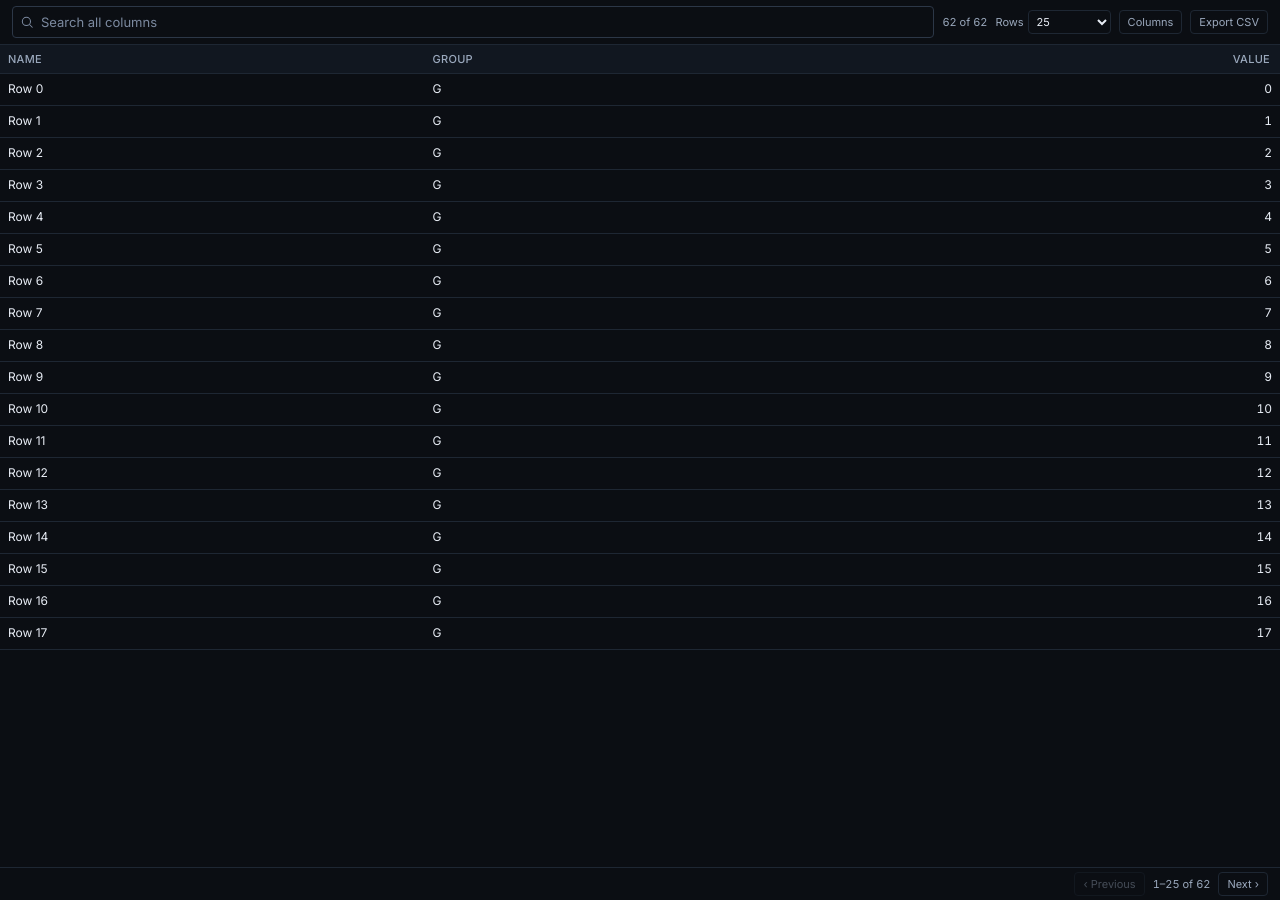
Test: DataTable component › pages through rows
The width and height of the screenshot is (1280, 900).
Expected: the navigation bar named "Pages" shows "1–25 of 62", x1=0 y1=867 x2=1279 y2=899
Click the button "Next ›" at x=1243, y=884, box x1=1218 y1=872 x2=1268 y2=896
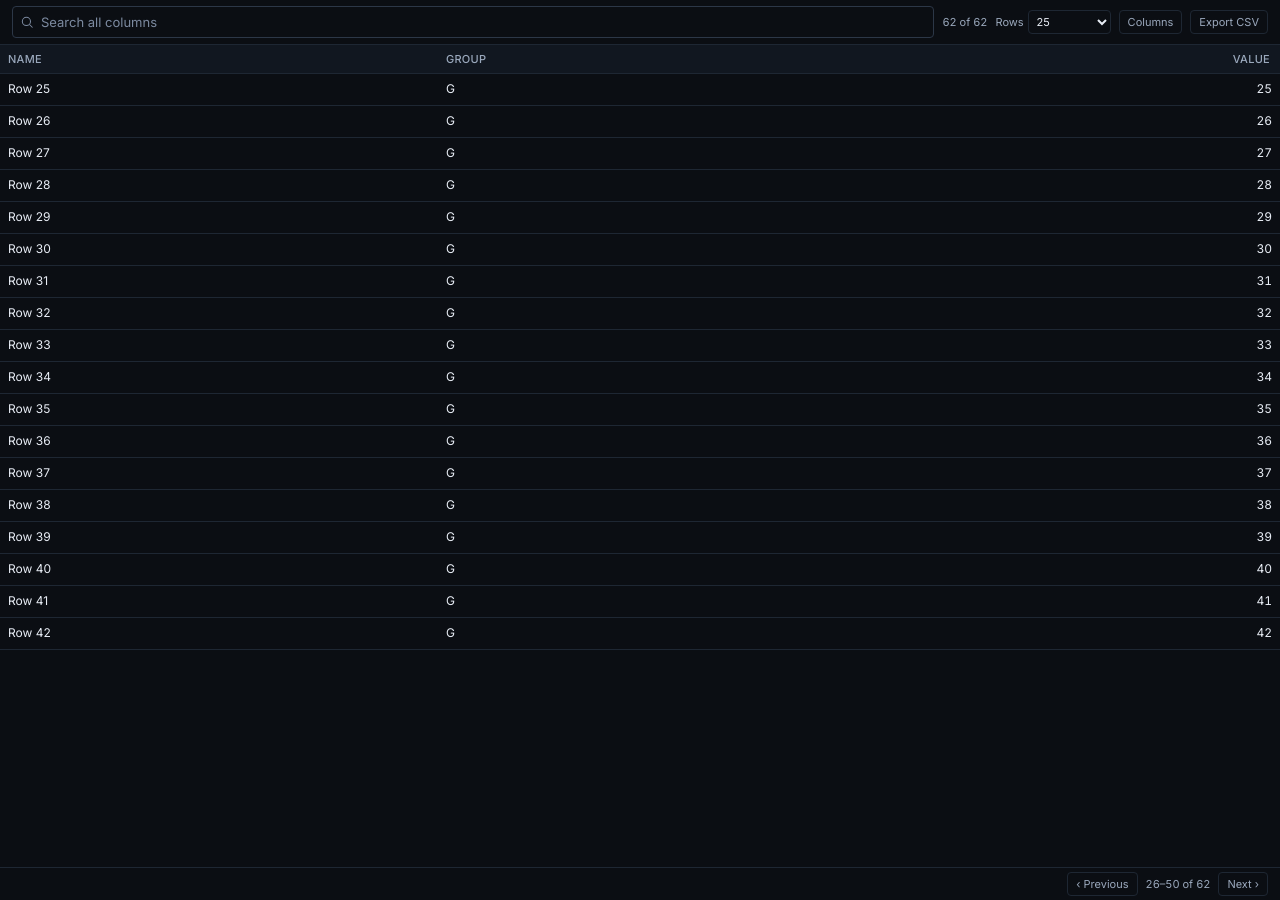
Result: the navigation bar named "Pages" shows "26–50 of 62" at x1=0 y1=867 x2=1279 y2=899
Click the button "Next ›" at x=1243, y=884, box x1=1218 y1=872 x2=1268 y2=896
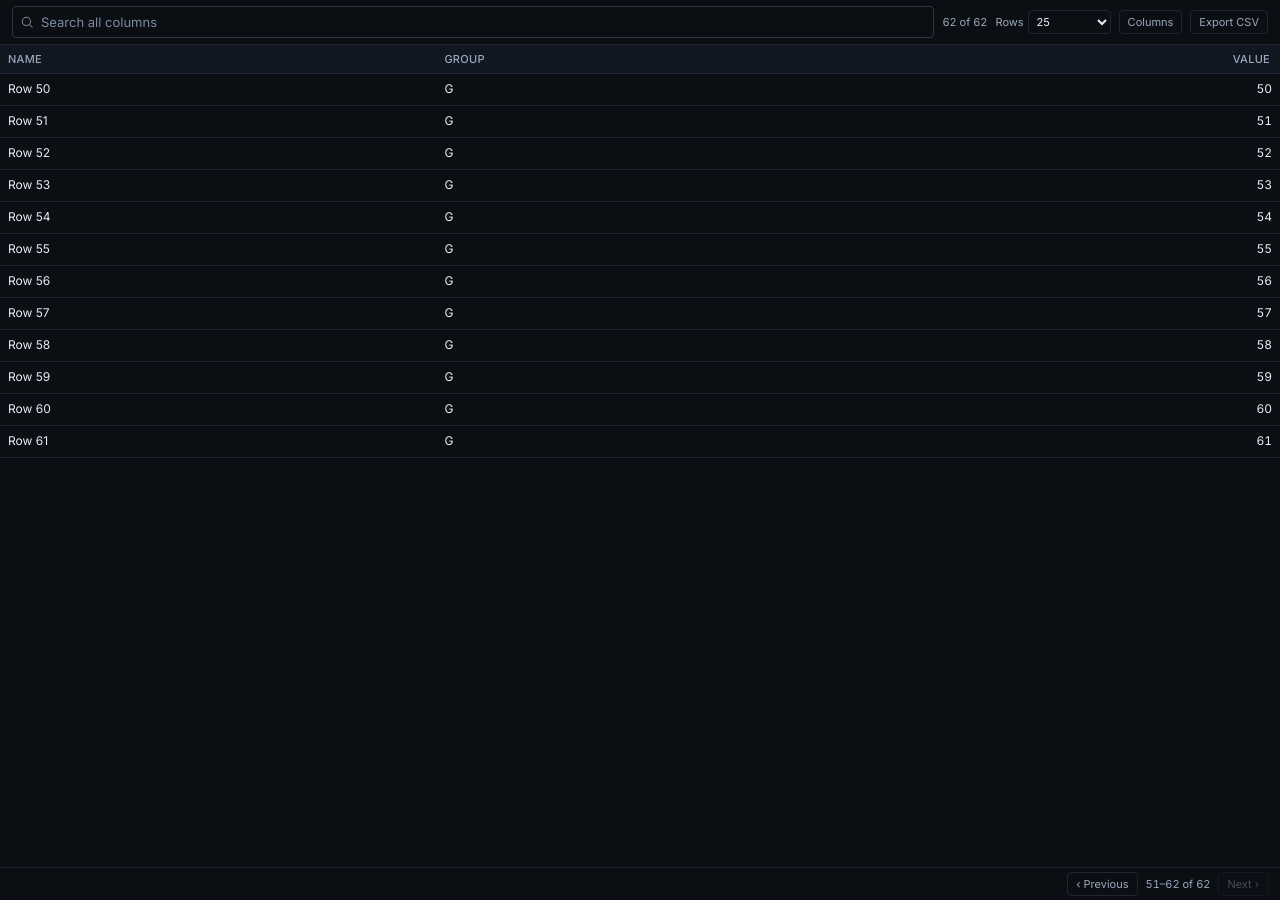
Result: the button "Next ›" is disabled at x1=1218 y1=872 x2=1268 y2=896
